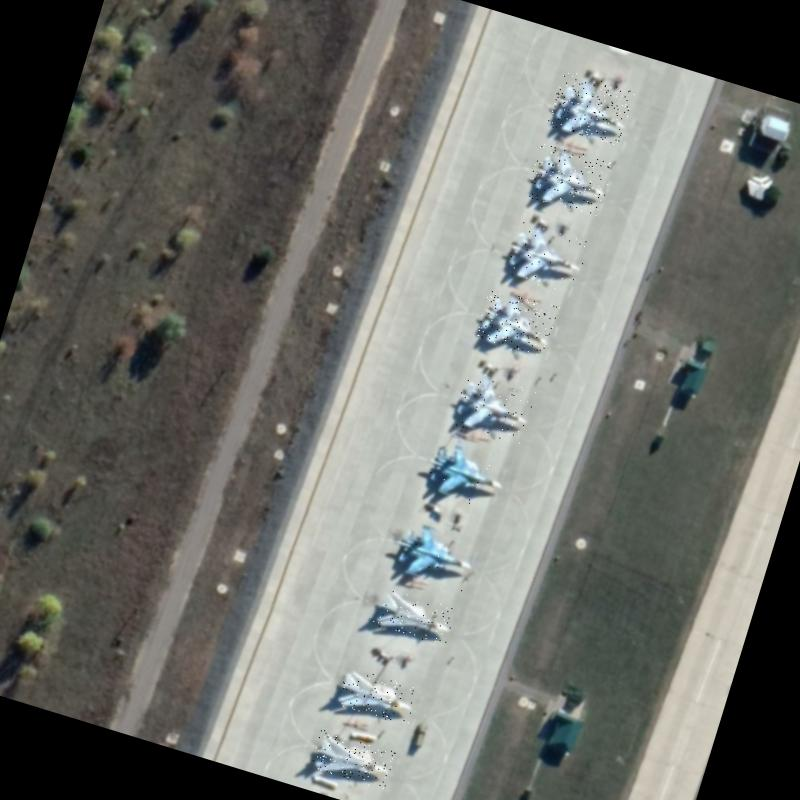A19: (386, 514, 482, 594), (448, 365, 538, 445), (419, 436, 512, 513), (500, 217, 590, 296), (546, 70, 636, 148), (524, 141, 614, 219), (474, 286, 560, 360)
A20: (334, 666, 420, 726), (310, 730, 396, 790), (372, 586, 457, 646)
